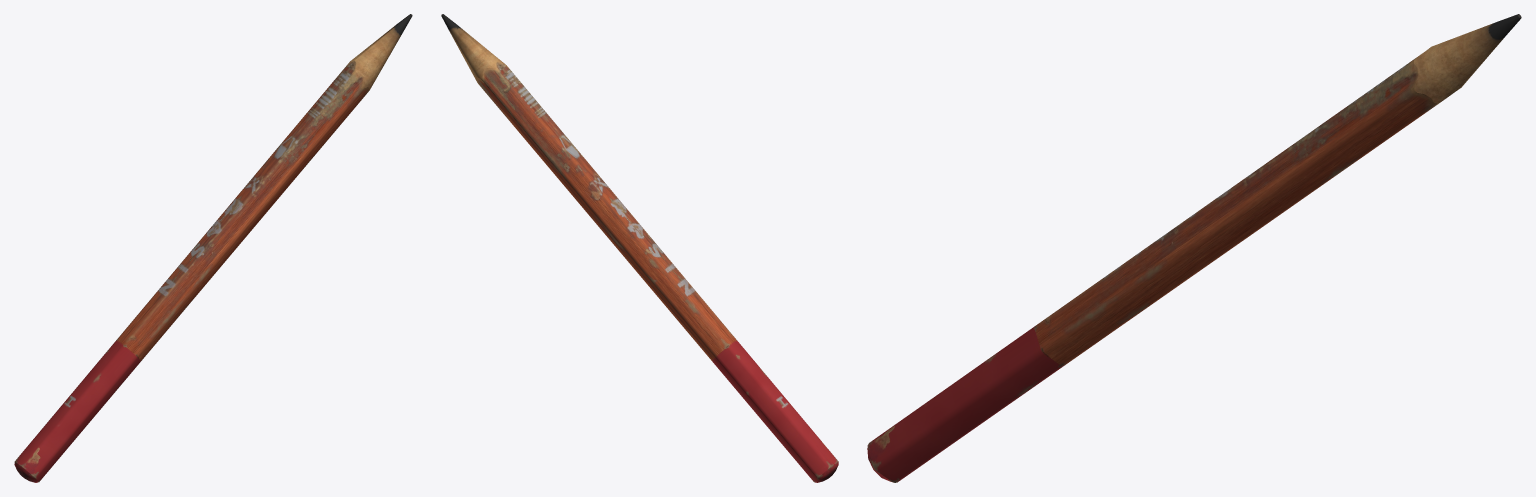
The model's file is pencil.glb.
3 views of the same model, side by side, from view 1: azimuth 30°, elevation 25°; view 2: azimuth 150°, elevation 25°; view 3: azimuth 330°, elevation 25° (orthographic). The views are drawn at different scales.
Parts seen in each view (by area): view 1: Pencil_Low_pencil_0; view 2: Pencil_Low_pencil_0; view 3: Pencil_Low_pencil_0.
Part boxes in pixels (bbox=[...]): Pencil_Low_pencil_0: bbox=[14, 14, 412, 482]; Pencil_Low_pencil_0: bbox=[441, 14, 838, 482]; Pencil_Low_pencil_0: bbox=[867, 14, 1521, 482].
Size of the model in its own units: 0.3148 by 0.2857 by 0.0235.
1 material, 1 textured.
